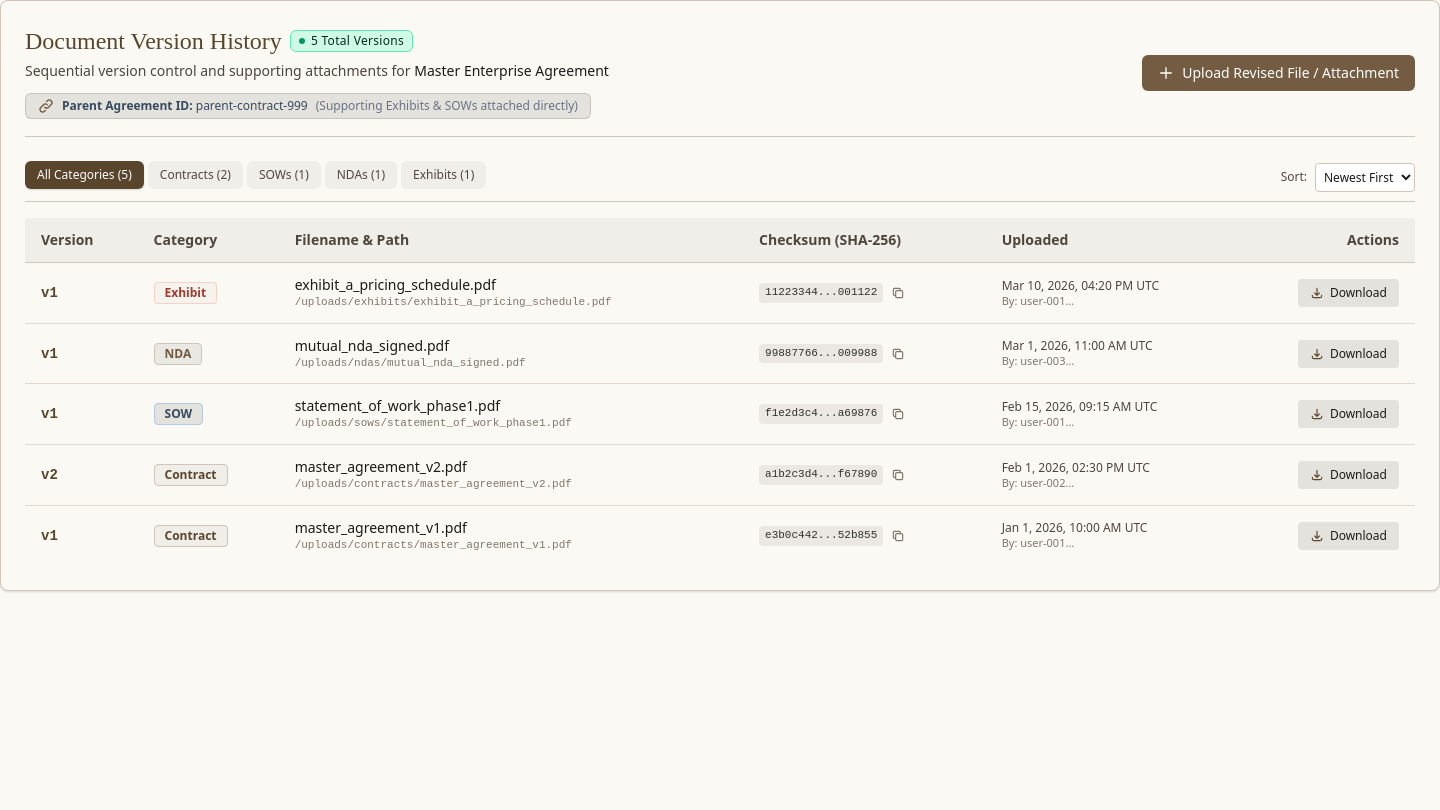
VersionHistory Component › [FR-3] filters document versions when category tab is selected
The image size is (1440, 810).
# Filter to SOWs tab
Step 1. Click the tab with test id "category-tab-SOW" → click(284, 175), box [247,161,321,189]
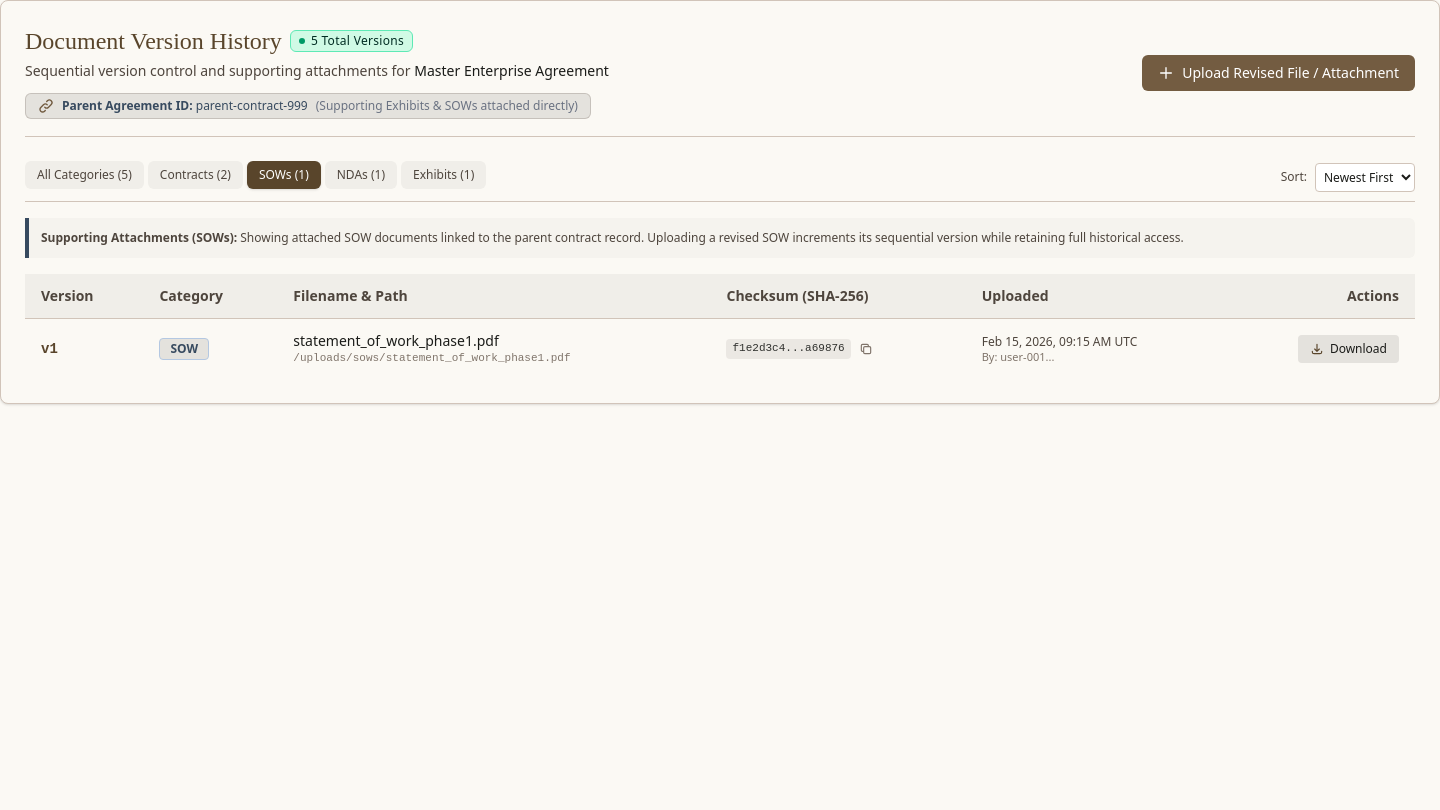
expect the text "statement_of_work_phase1.pdf" is shown: met, box [293,331,499,350]
expect the text "master_agreement_v1.pdf" is gone: met
expect the text "mutual_nda_signed.pdf" is gone: met
